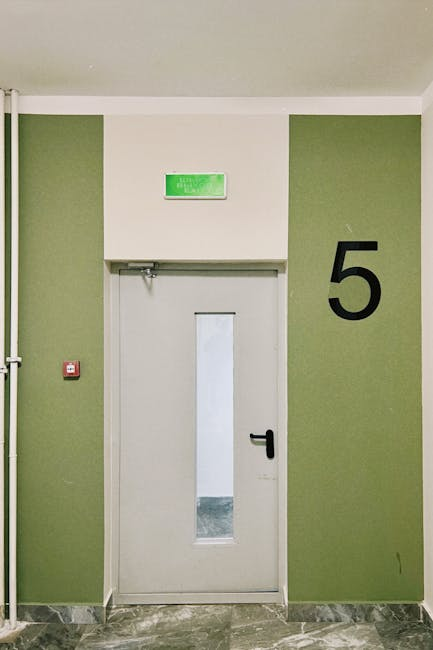emergency_exit: (163, 171, 227, 200)
